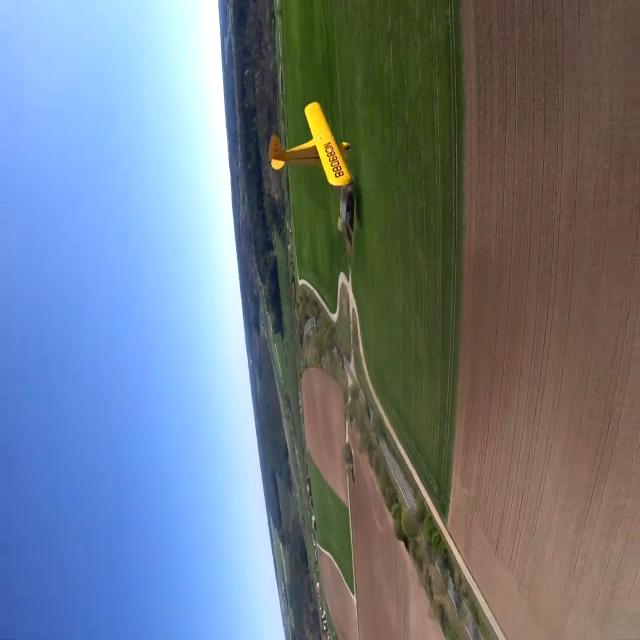iha: (298, 134, 322, 157)
